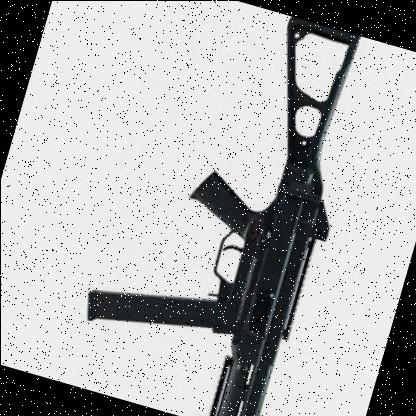rifle: (56, 0, 410, 416)
